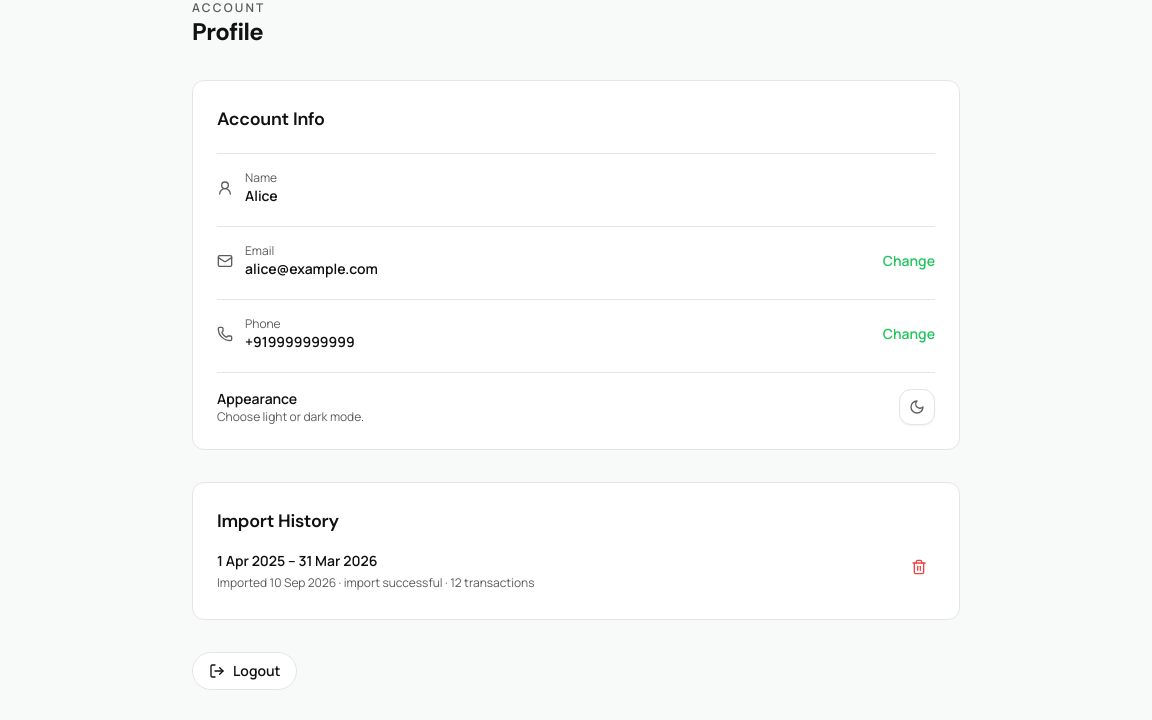
ProfileView › keeps an import and its confirmation open when deletion fails
Expected: the text "1 Apr 2025 – 31 Mar 2026" is shown, [217,551,377,570]
Step 1. Click the button named "Delete import from 10 Sep 2026" → (919, 567), box [903,551,935,583]
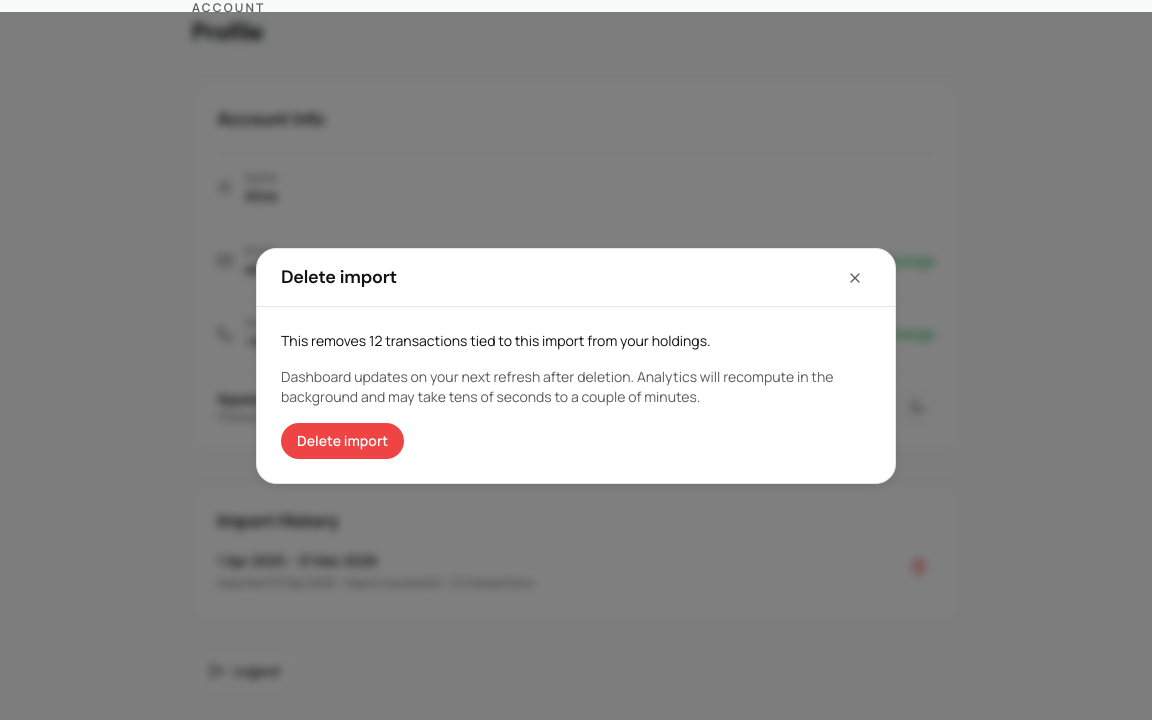
Step 2. Click the button "Delete import" → (343, 441), box [281,423,404,459]
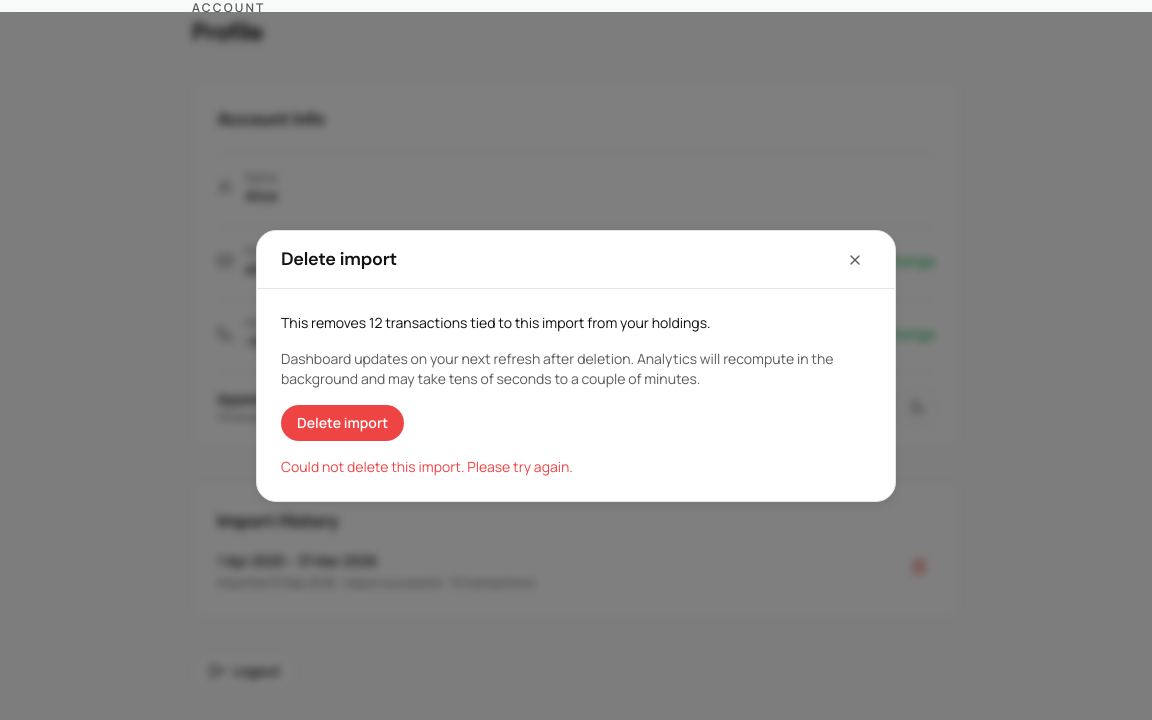
Expected: the text "1 Apr 2025 – 31 Mar 2026" is shown, [217,551,377,570]
Expected: the button "Delete import" is enabled, [281,405,404,441]
Expected: the message reads "Could not delete this import. Please try again.", [281,457,573,476]
